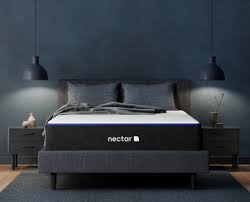bed-matress: (45, 100, 202, 152)
